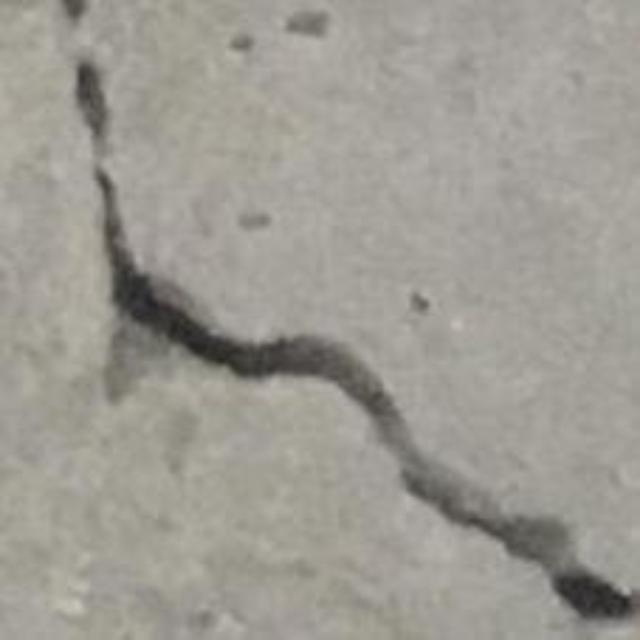crack: (57, 0, 639, 631)
